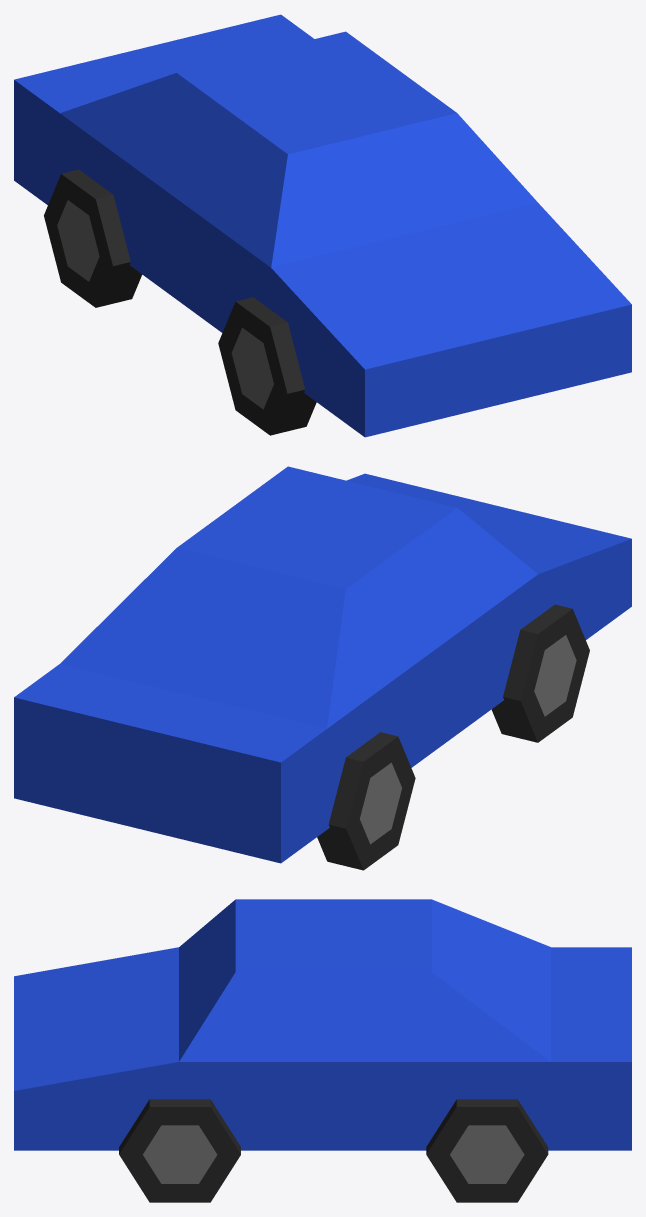
Rendered from car.fbx.
The picture shows the model from 3 angles, top to bottom: view 1: azimuth 30°, elevation 25°; view 2: azimuth 150°, elevation 25°; view 3: azimuth 270°, elevation 25°; orthographic projection. The views are drawn at different scales.
Visible parts, largest first — view 1: Cube, Circle; view 2: Cube, Circle; view 3: Cube, Circle.
Boxes of the visible parts, bbox=[...] form: Cube: bbox=[14, 14, 631, 437]; Circle: bbox=[44, 169, 316, 435]; Cube: bbox=[14, 466, 631, 863]; Circle: bbox=[317, 604, 589, 870]; Cube: bbox=[14, 899, 631, 1150]; Circle: bbox=[119, 1099, 548, 1202].
Size of the model in its own units: 314 by 227 by 630.
